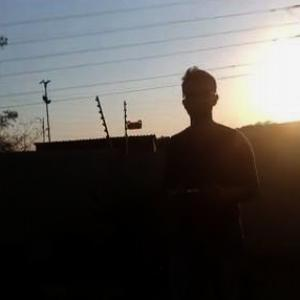follow: (157, 62, 264, 299)
